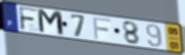7: (69, 13, 87, 39)
8: (122, 21, 141, 46)
9: (145, 23, 164, 48)
F: (18, 6, 40, 32), (92, 16, 112, 40)
M: (36, 8, 67, 38)
